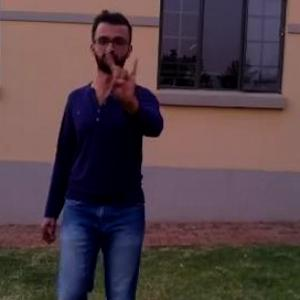takeoff-hand: (100, 45, 144, 104)
